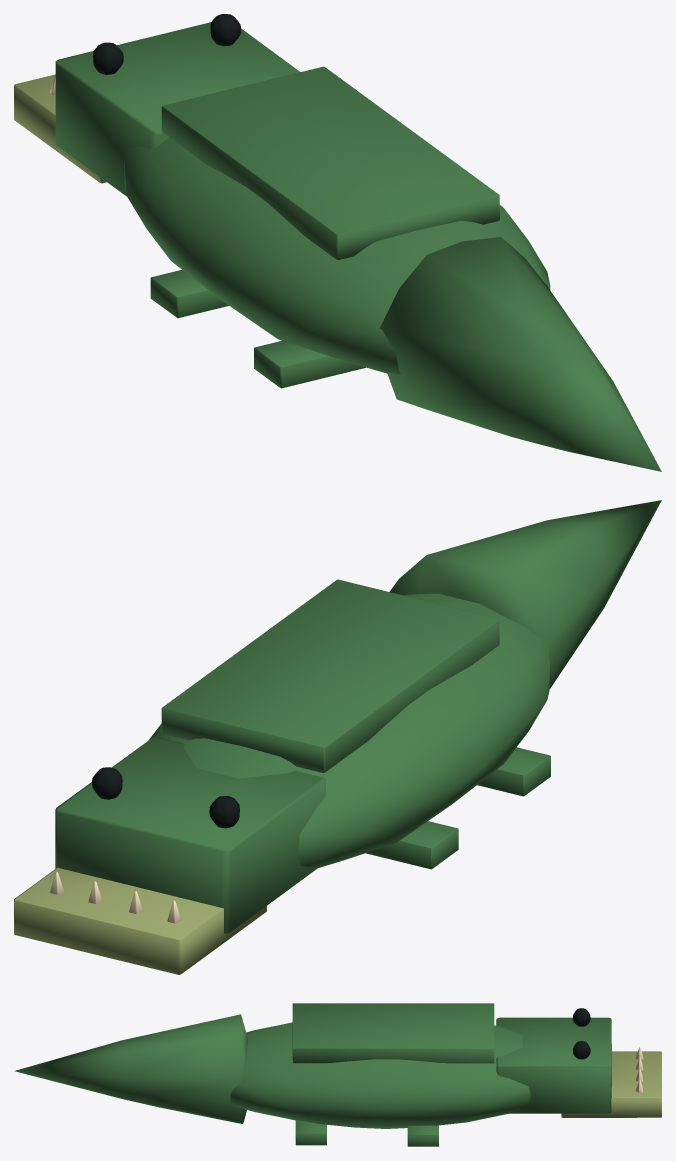
The model's file is crocodile.glb.
The picture shows the model from 3 angles, top to bottom: view 1: azimuth 30°, elevation 25°; view 2: azimuth 150°, elevation 25°; view 3: azimuth 270°, elevation 25°; orthographic projection. The views are drawn at different scales.
Visible parts, largest first — view 1: crocodile_part_10, crocodile_part_1, crocodile_part_0, crocodile_part_2, crocodile_part_13, crocodile_part_5, crocodile_part_11, crocodile_part_3, crocodile_part_4; view 2: crocodile_part_1, crocodile_part_0, crocodile_part_2, crocodile_part_10, crocodile_part_5, crocodile_part_11, crocodile_part_13, crocodile_part_3, crocodile_part_4; view 3: crocodile_part_0, crocodile_part_10, crocodile_part_1, crocodile_part_2, crocodile_part_5, crocodile_part_14, crocodile_part_12, crocodile_part_4, crocodile_part_3.
Boxes of the visible parts, x1=… form: crocodile_part_10: x1=380, y1=237, x2=661, y2=471; crocodile_part_1: x1=161, y1=66, x2=499, y2=259; crocodile_part_0: x1=124, y1=137, x2=550, y2=374; crocodile_part_2: x1=55, y1=22, x2=300, y2=196; crocodile_part_13: x1=254, y1=340, x2=365, y2=388; crocodile_part_5: x1=14, y1=74, x2=106, y2=183; crocodile_part_11: x1=150, y1=270, x2=228, y2=318; crocodile_part_3: x1=93, y1=42, x2=123, y2=74; crocodile_part_4: x1=210, y1=14, x2=240, y2=46; crocodile_part_1: x1=161, y1=579, x2=499, y2=772; crocodile_part_0: x1=149, y1=593, x2=550, y2=867; crocodile_part_2: x1=55, y1=737, x2=325, y2=933; crocodile_part_10: x1=389, y1=500, x2=661, y2=688; crocodile_part_5: x1=14, y1=867, x2=266, y2=974; crocodile_part_11: x1=365, y1=821, x2=458, y2=869; crocodile_part_13: x1=477, y1=747, x2=550, y2=796; crocodile_part_3: x1=209, y1=796, x2=239, y2=828; crocodile_part_4: x1=92, y1=767, x2=122, y2=799; crocodile_part_0: x1=229, y1=1022, x2=530, y2=1128; crocodile_part_10: x1=14, y1=1014, x2=247, y2=1123; crocodile_part_1: x1=292, y1=1003, x2=494, y2=1063; crocodile_part_2: x1=496, y1=1017, x2=611, y2=1113; crocodile_part_5: x1=561, y1=1051, x2=661, y2=1117; crocodile_part_14: x1=295, y1=1120, x2=326, y2=1145; crocodile_part_12: x1=407, y1=1125, x2=438, y2=1146; crocodile_part_4: x1=573, y1=1041, x2=590, y2=1059; crocodile_part_3: x1=573, y1=1008, x2=590, y2=1026.
Size of the model in its own units: 2.05 by 1.21 by 7.12.
